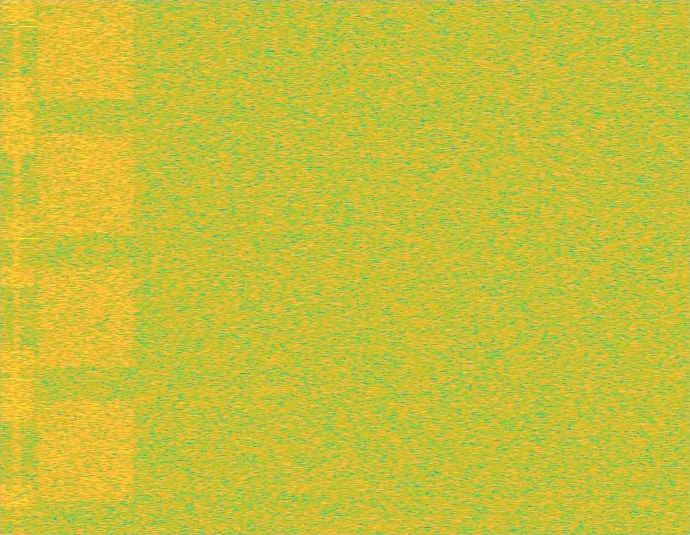5G: (35, 0, 138, 534)
DSSS: (13, 0, 21, 534)
LTE: (0, 0, 35, 534)
Radar: (21, 0, 35, 534)
